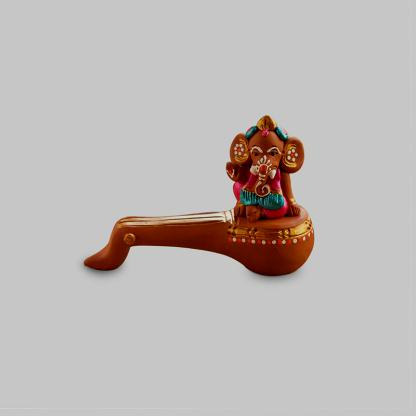Veena: (77, 193, 334, 282)
